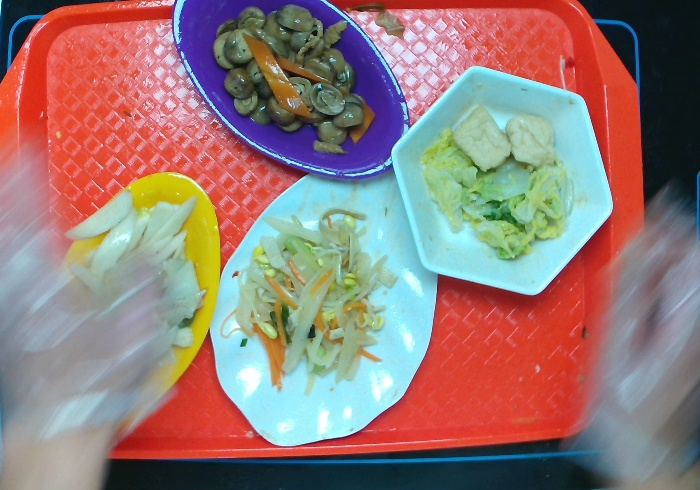RJxy-Bai_Ye_Pan: (212, 167, 439, 446)
RJxy-Fen_Hong_Tuo_Yuan: (172, 1, 410, 182)
RJxy-Liu_Jiao_Wan: (389, 69, 611, 297)
